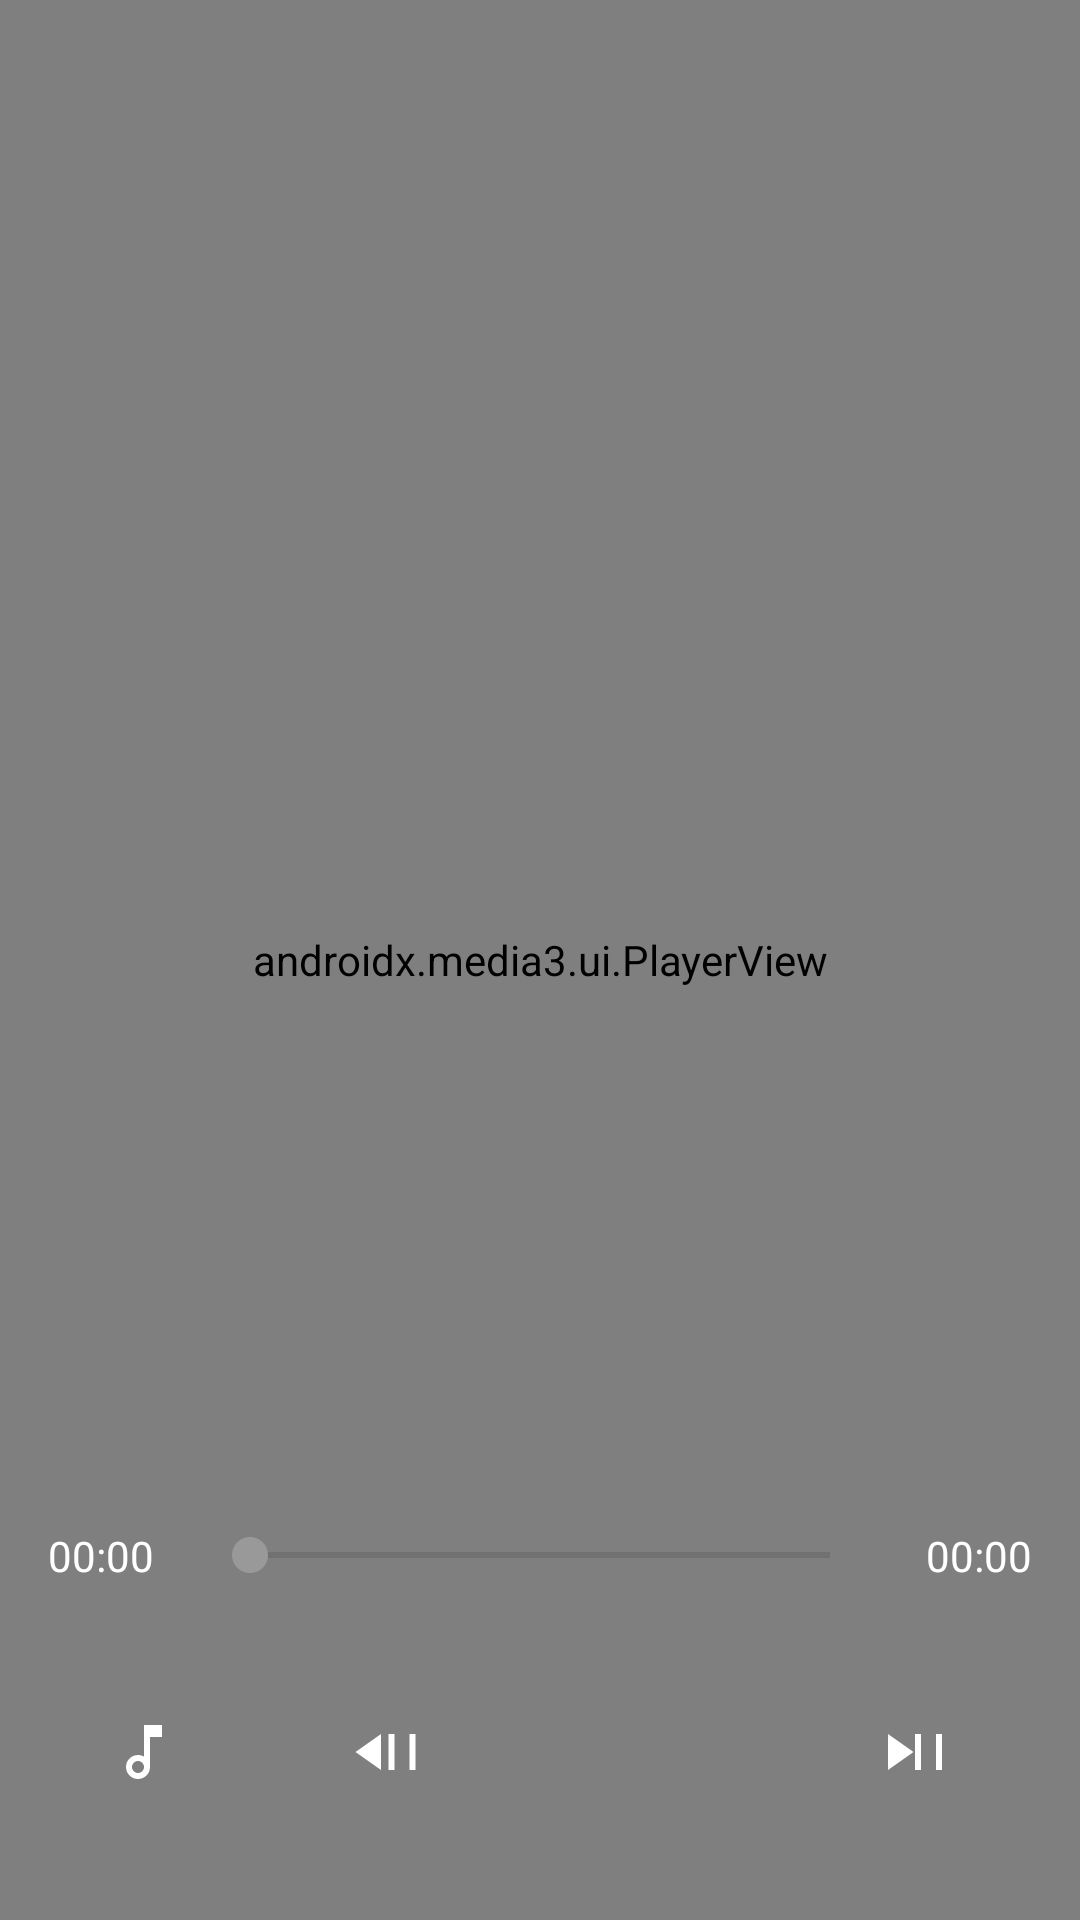

Icon click points for this 1080 x 1920 phone screenshot, format point (x, y):
skip backward: point (386, 1752)
skip forward: point (915, 1752)
tracks: point (144, 1752)
